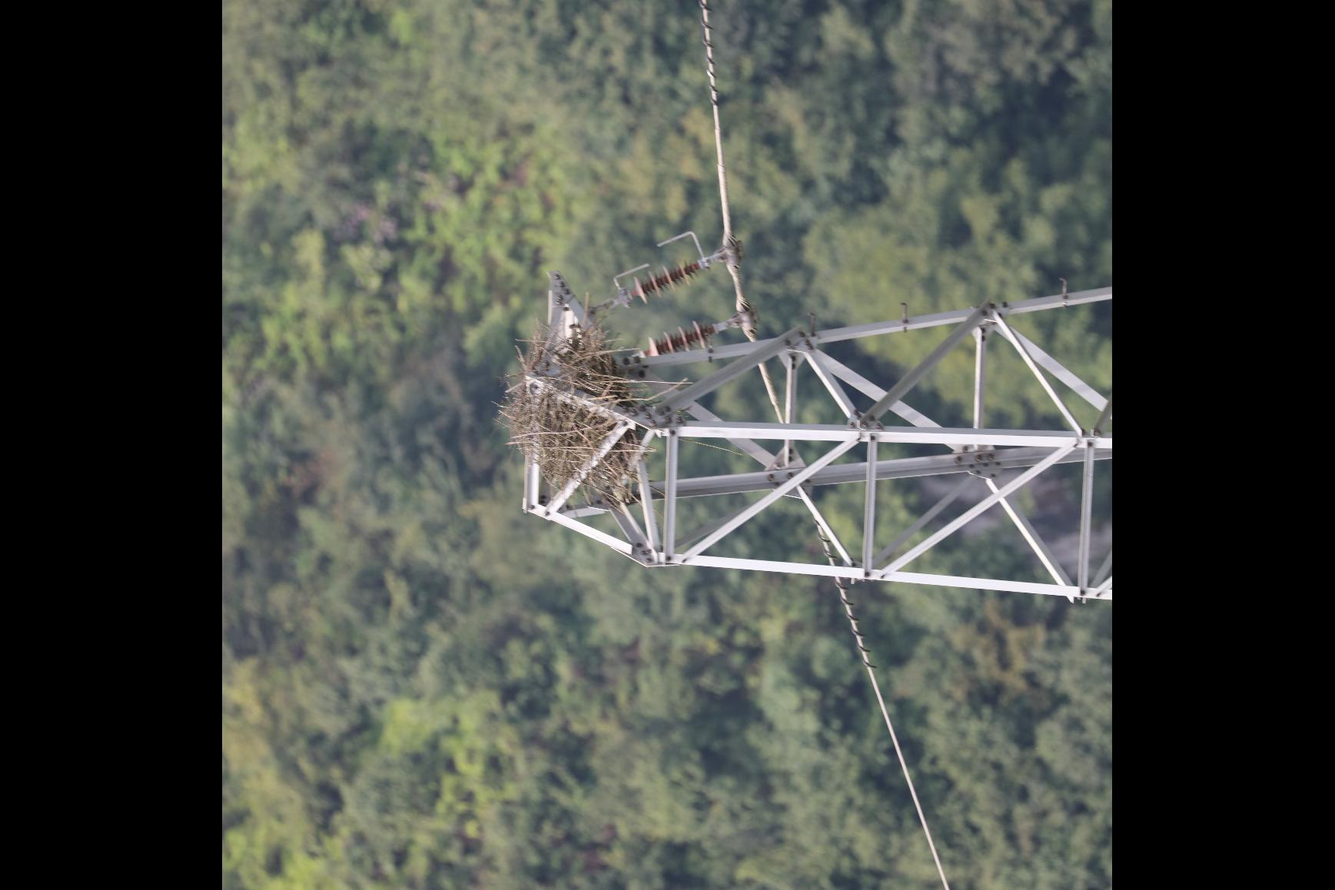nest: (497, 318, 653, 509)
